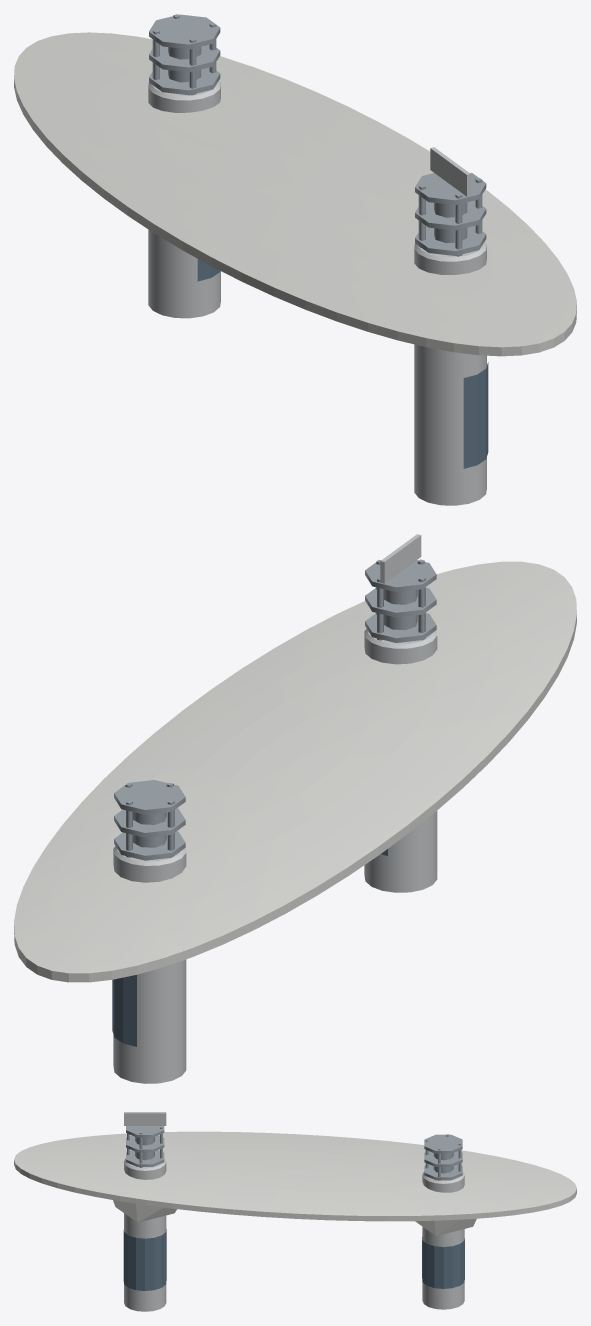
File: lv-fashion-show-cloud.glb
3 views of the same model, one above another, from view 1: azimuth 30°, elevation 25°; view 2: azimuth 150°, elevation 25°; view 3: azimuth 270°, elevation 25° (orthographic). The views are drawn at different scales.
Visible parts, largest first — view 1: The Cloud, Fashion Show Las Vegas; view 2: The Cloud, Fashion Show Las Vegas; view 3: The Cloud, Fashion Show Las Vegas.
Part boxes in pixels (x1,y1,x2,y2): The Cloud, Fashion Show Las Vegas: (14, 14, 576, 505); The Cloud, Fashion Show Las Vegas: (14, 534, 576, 1083); The Cloud, Fashion Show Las Vegas: (14, 1112, 576, 1311).
Size of the model in its own units: 48.8 by 54.41 by 146.
